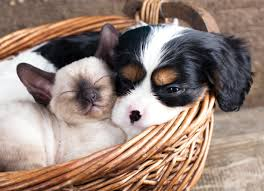Cat: (6, 22, 119, 171)
Dog: (103, 12, 259, 137)
